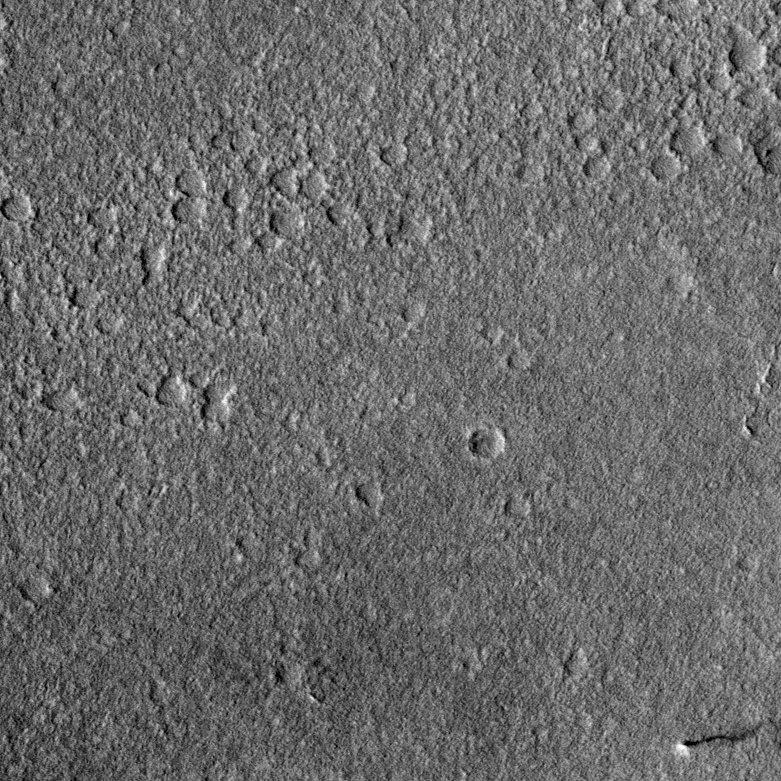dust_devil: (673, 717, 769, 762)
